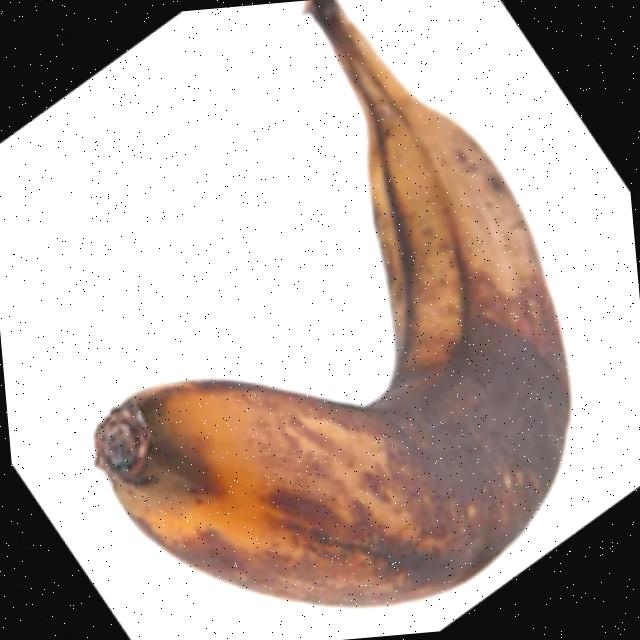Rotten: (50, 0, 604, 626)
